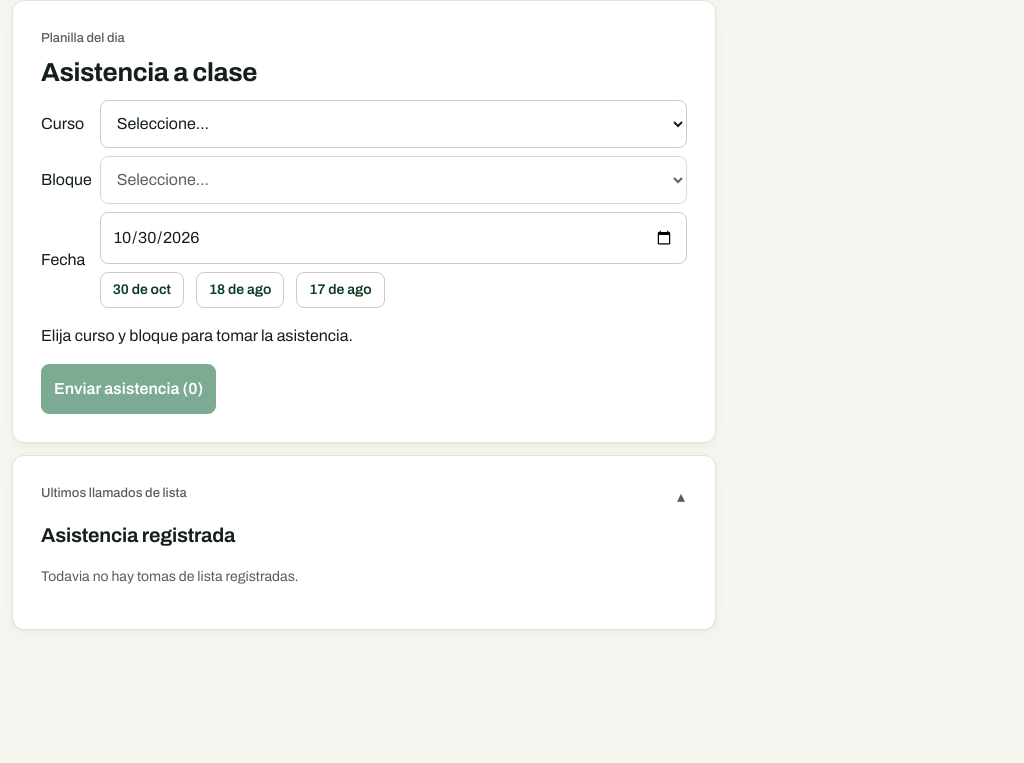
Test: TomarAsistencia › enviar sin conexion confirma que la lista quedo guardada en el telefono
Expected: the dropdown labelled "Curso" is shown, [100,100,687,148]
In the date field labelled "Fecha": (393, 238) [100,212,687,264], type "2026-08-17"
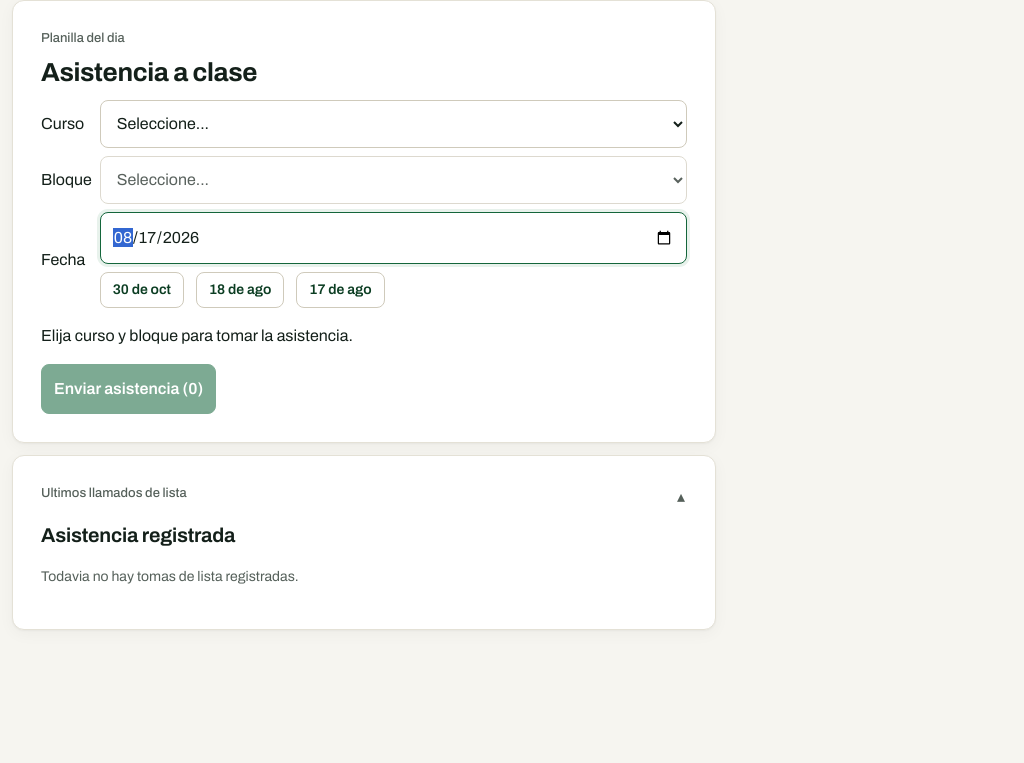
Select "601" in the dropdown labelled "Curso": (393, 124) [100,100,687,148]
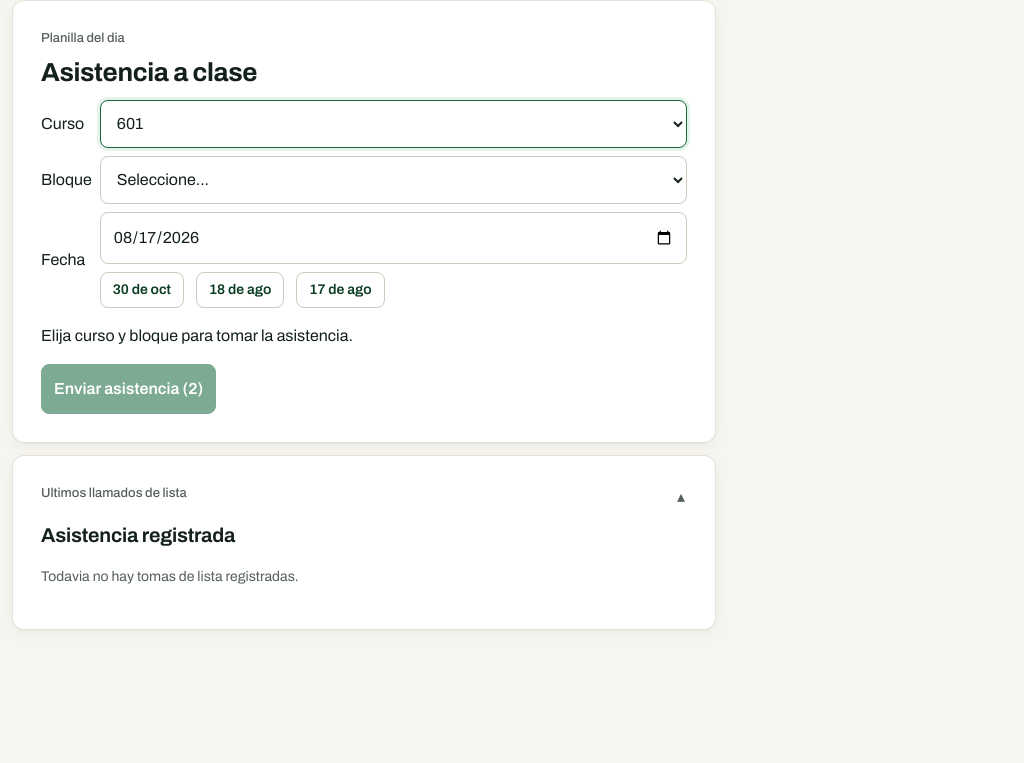
Expected: the dropdown labelled "Bloque" is enabled
Select "4. Ciencias (09:00) · Dia 1" in the dropdown labelled "Bloque": (393, 180) [100,156,687,204]
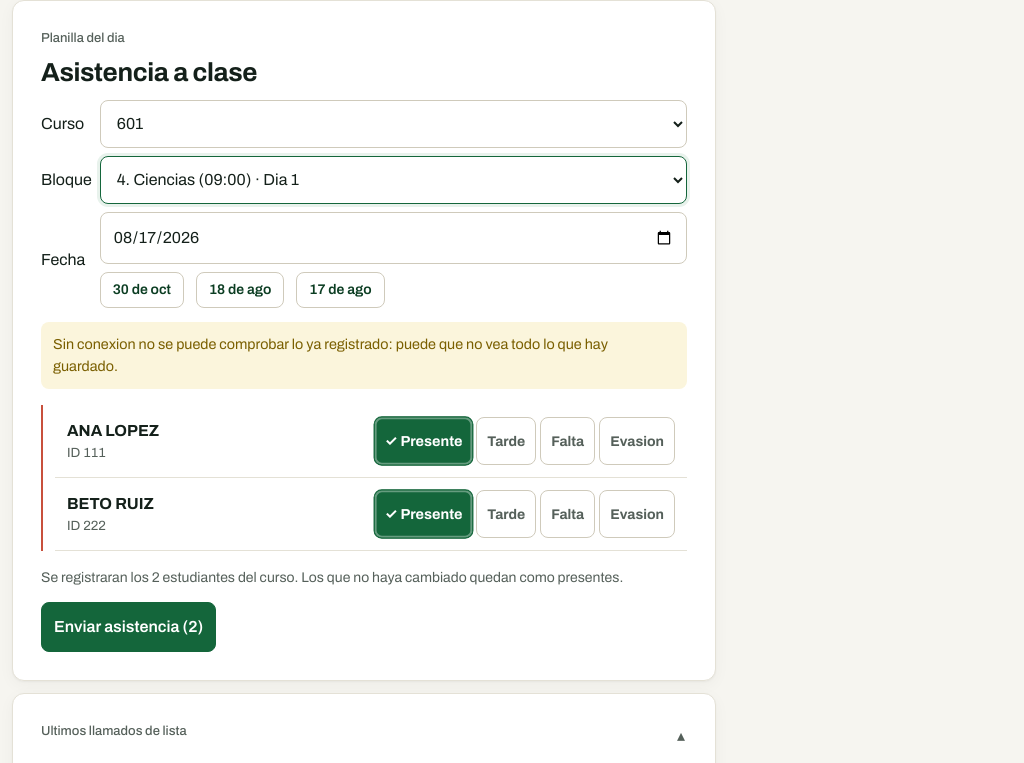
Expected: the text "ANA LOPEZ" is shown, [67,422,159,439]
Click the button "Enviar asistencia (2)": (129, 627) [41,602,216,652]
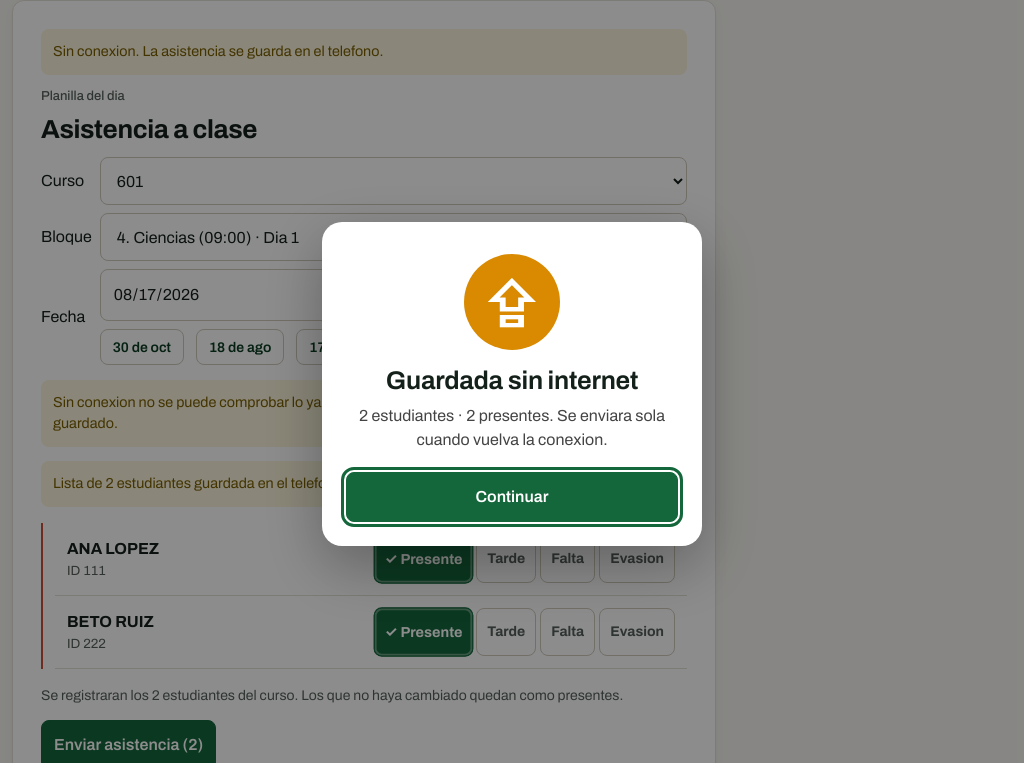
Expected: the dialog shows "Guardada sin internet", [386,367,638,394]
Expected: the text "se subira sola cuando haya conexion" is shown, [53,475,589,491]
